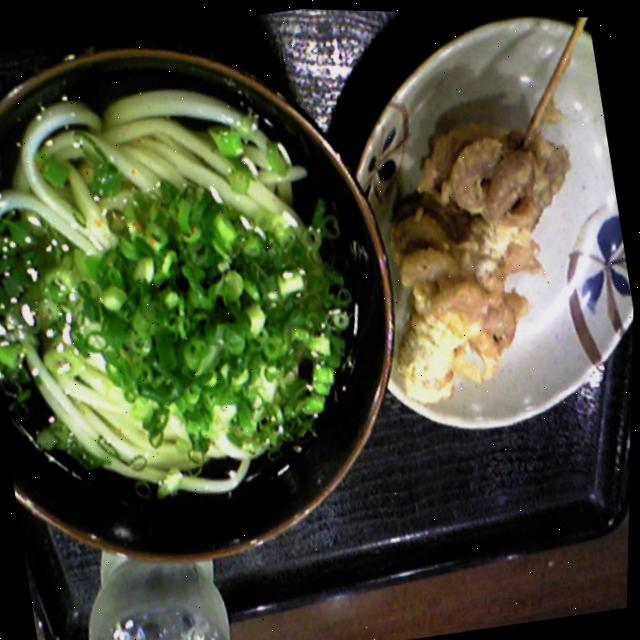面条主食: (18, 1, 516, 583)
